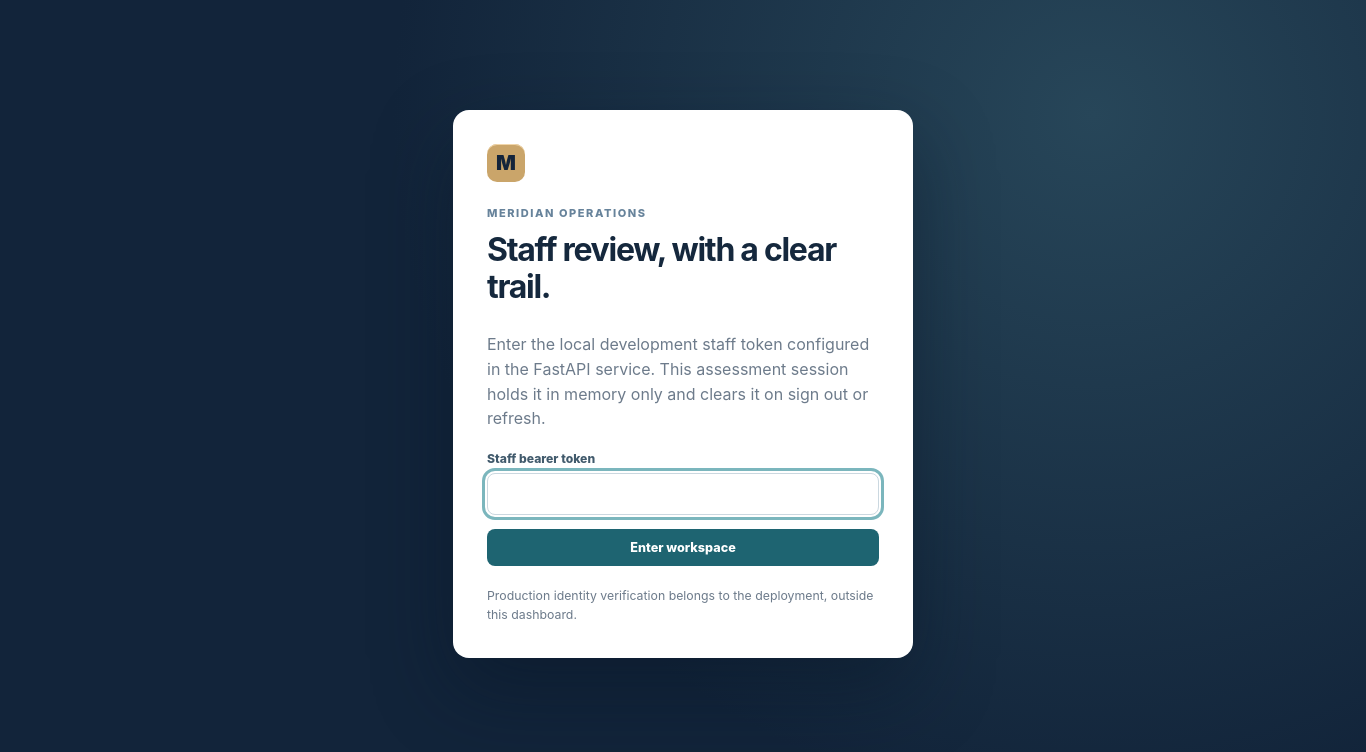
Scenario: register and upload › uploads a PDF explicitly, then handles an unlinked processing result
Later steps or results of the test are not shown.
In the password field labelled "Staff bearer token": (683, 494) [487,473,879,515], type "valid-token"
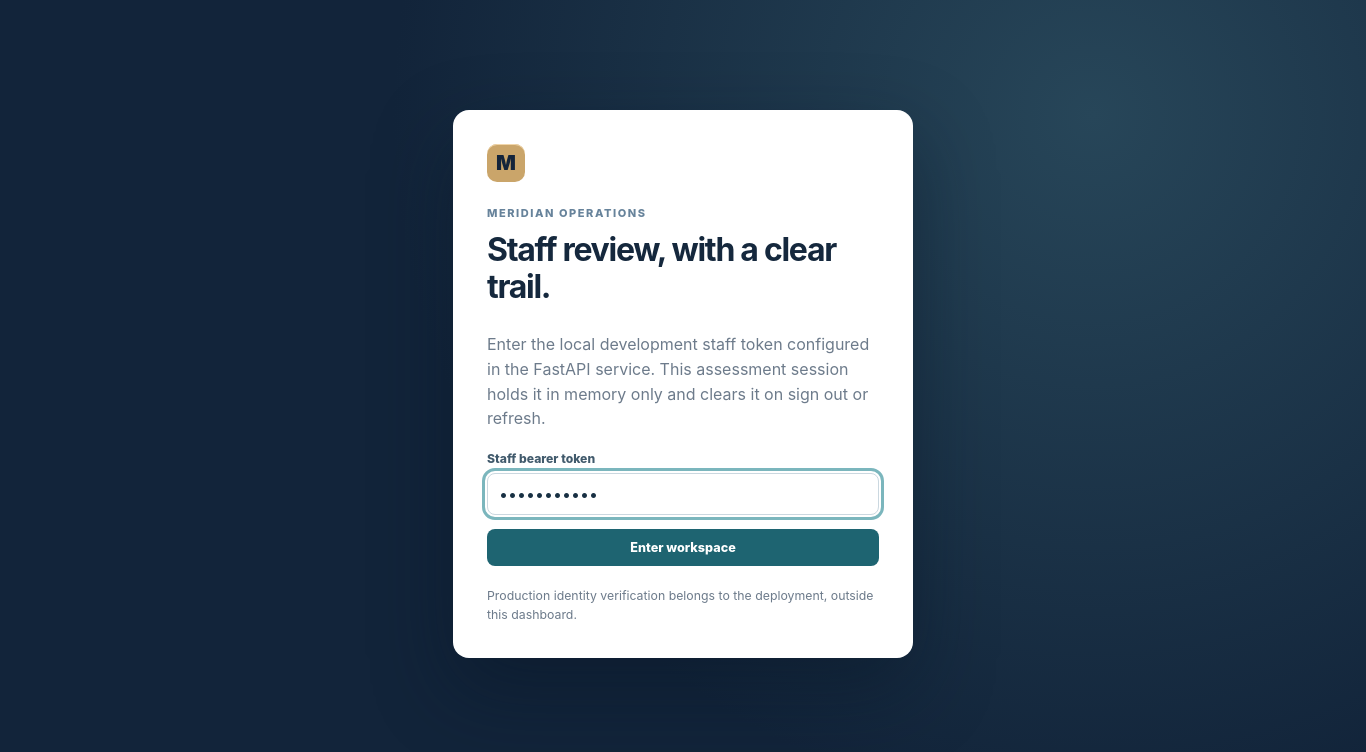
Click the button "Enter workspace": (683, 548) [487,529,879,566]
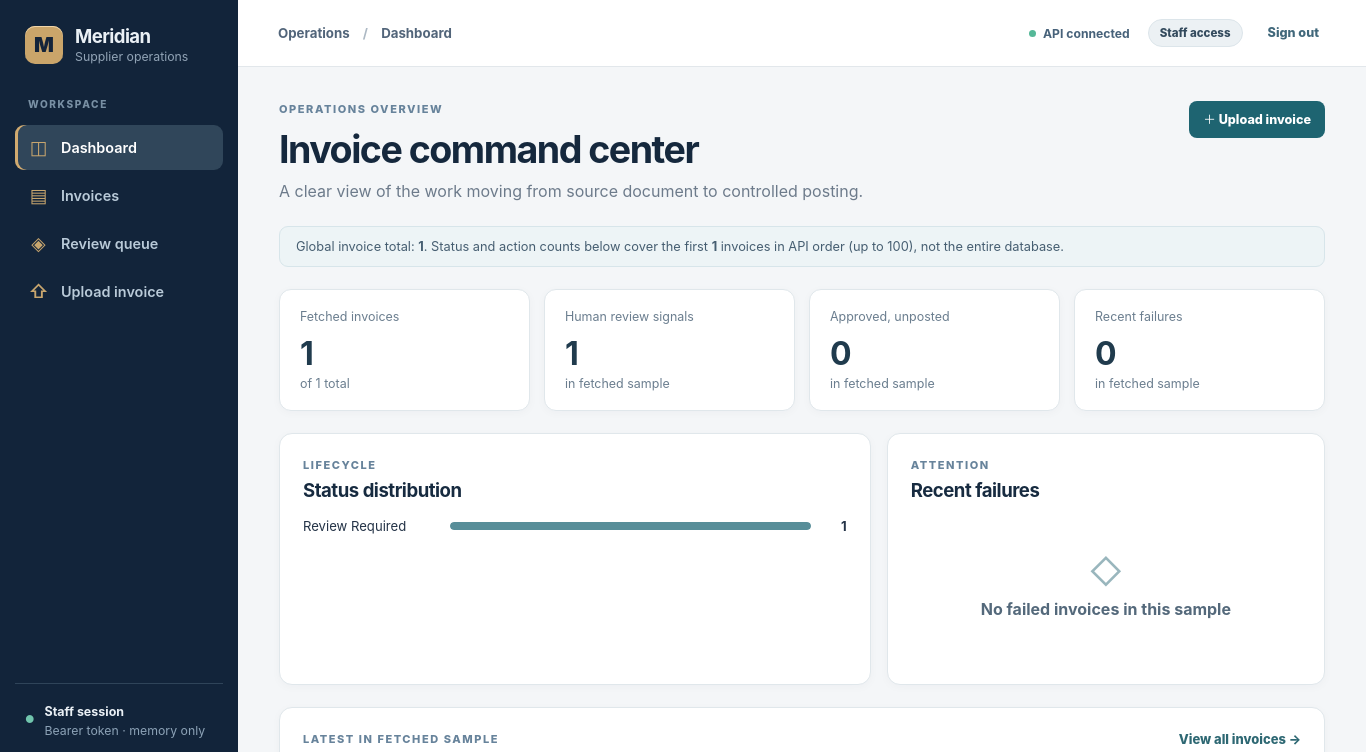
Now the heading "Invoice command center" is shown, box [279,127,698,172]
